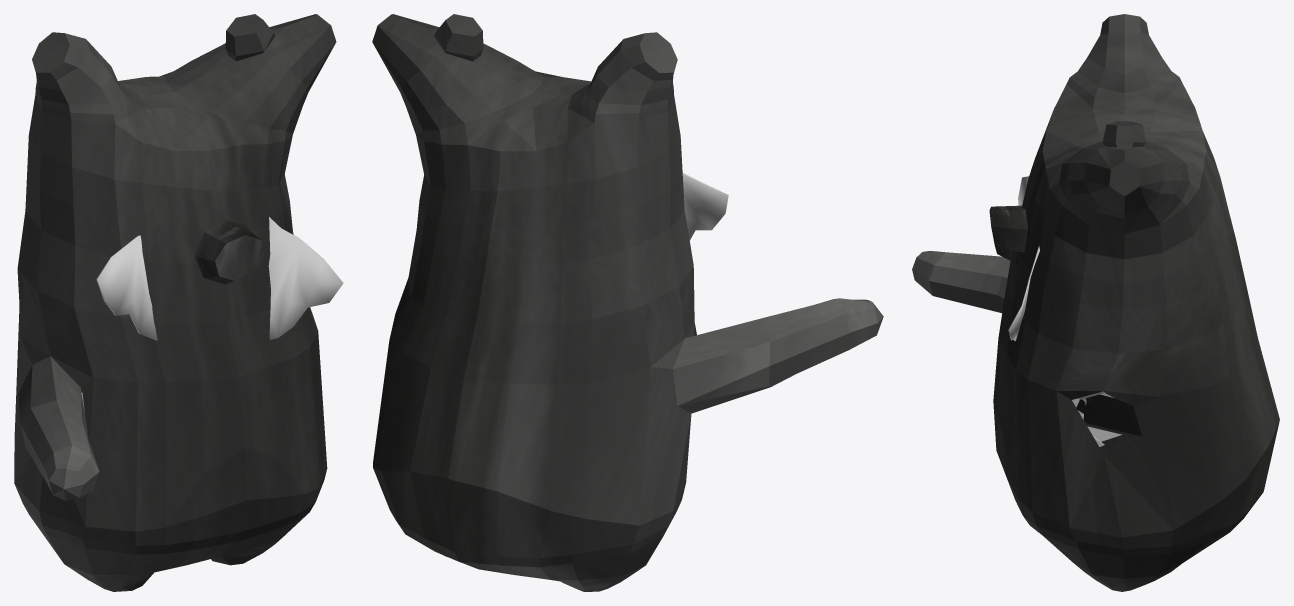
Rendered from frame_0015.obj.
The picture shows the model from 3 angles, left to right: view 1: azimuth 30°, elevation 25°; view 2: azimuth 150°, elevation 25°; view 3: azimuth 270°, elevation 25°; orthographic projection. The views are drawn at different scales.
Parts seen in each view (by area): view 1: korok, leaf, nose; view 2: korok, leaf; view 3: korok, nose, leaf.
Boxes of the visible parts, left/top/right/bottom form: korok: left=14, top=14, right=336, bottom=591; leaf: left=96, top=217, right=343, bottom=340; nose: left=194, top=219, right=263, bottom=284; korok: left=372, top=14, right=883, bottom=591; leaf: left=682, top=173, right=728, bottom=240; korok: left=912, top=14, right=1279, bottom=591; nose: left=989, top=205, right=1027, bottom=263; leaf: left=1008, top=176, right=1039, bottom=341.
Bounding box in the file's own units: 1.63 × 2.26 × 1.5.
